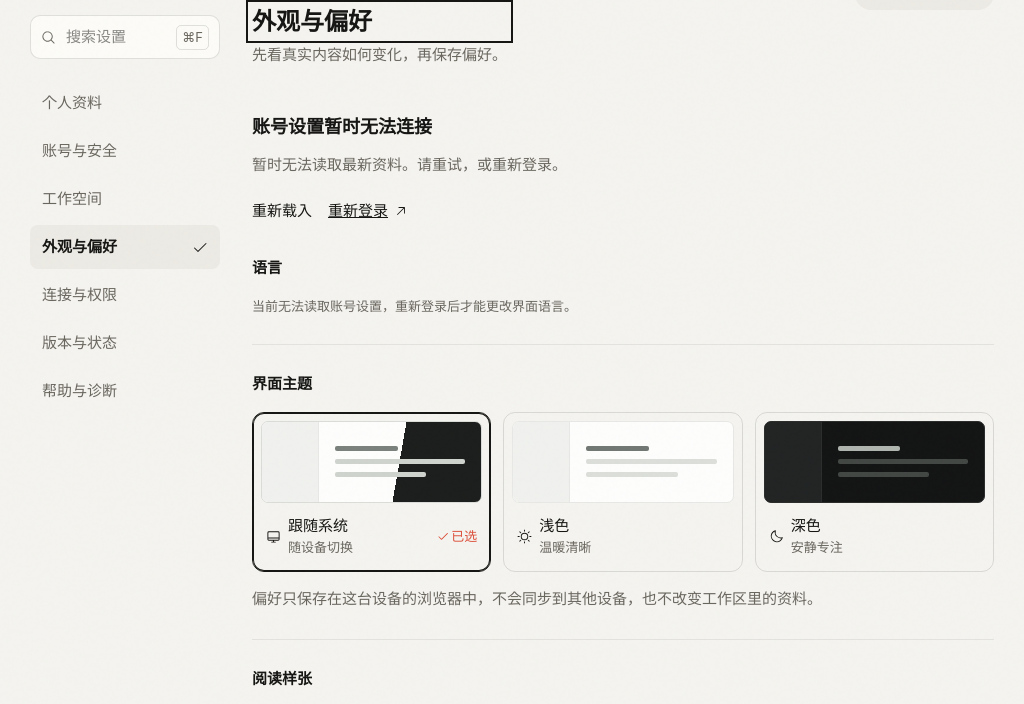
Scenario: appearance › keeps an unsaved state when the browser refuses to persist
Click the radio button labelled "深色 安静专注" at (874, 492), box [755,412,994,572]
(page scrolled)
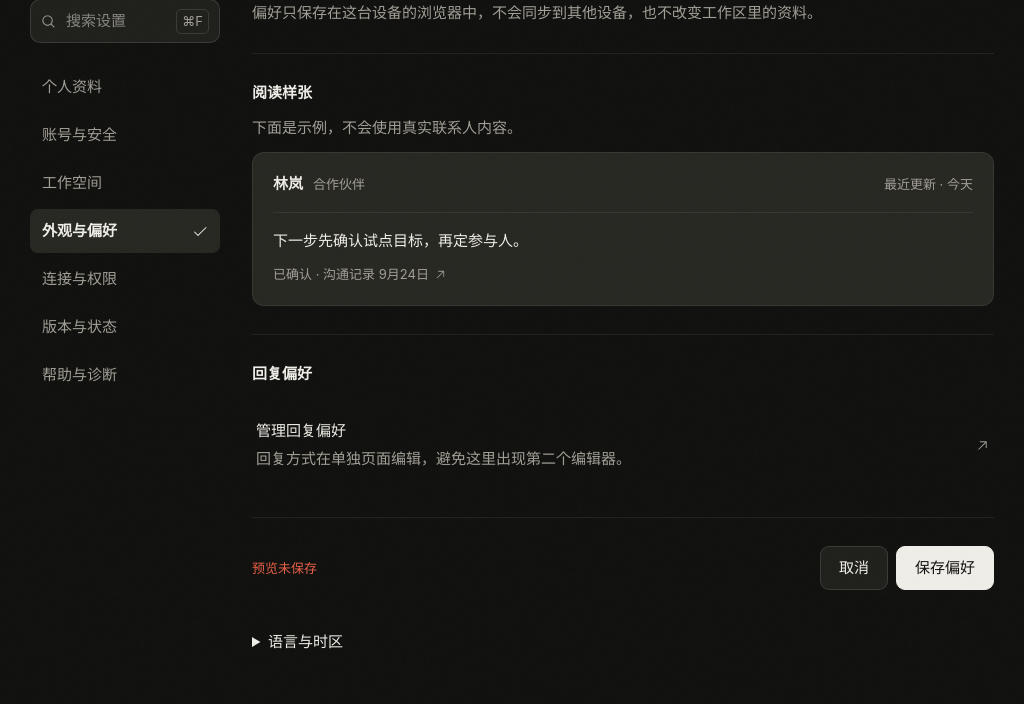
Click the button "保存偏好" at (945, 568), box [896,546,994,590]
(page scrolled)
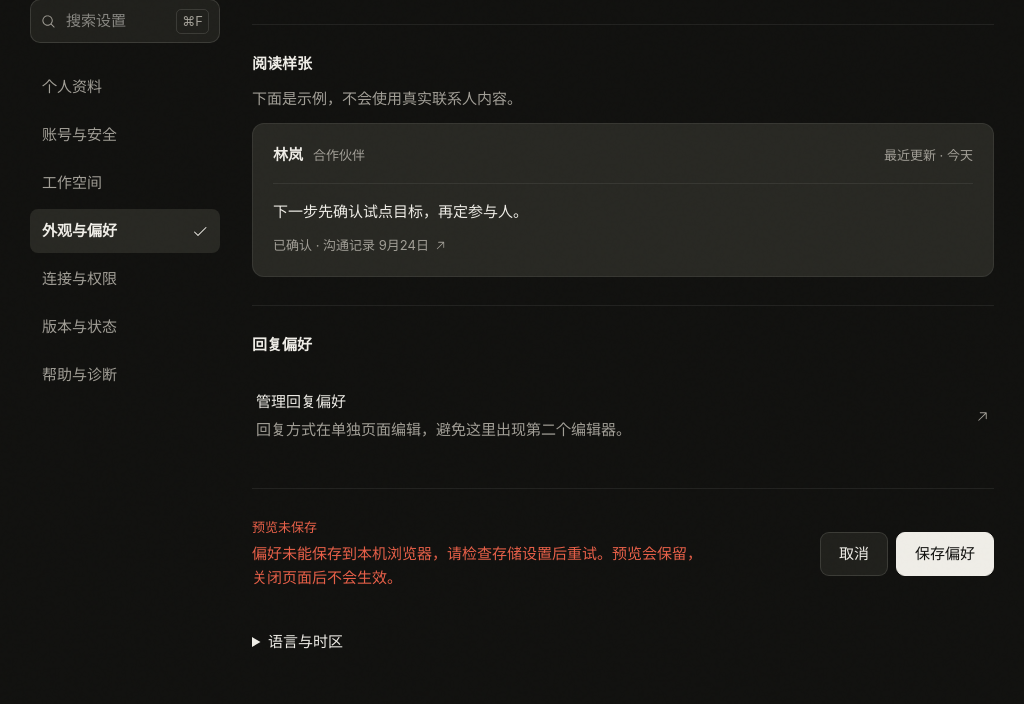
Expected: the text "预览未保存" is shown, [252,520,317,536]
Expected: the text "偏好未能保存到本机浏览器" is shown, [252,544,702,587]
Expected: the message "偏好未能保存到本机浏览器，请检查存储设置后重试。预览会保留，关闭页面后不会生效。" is shown, [252,542,712,590]
